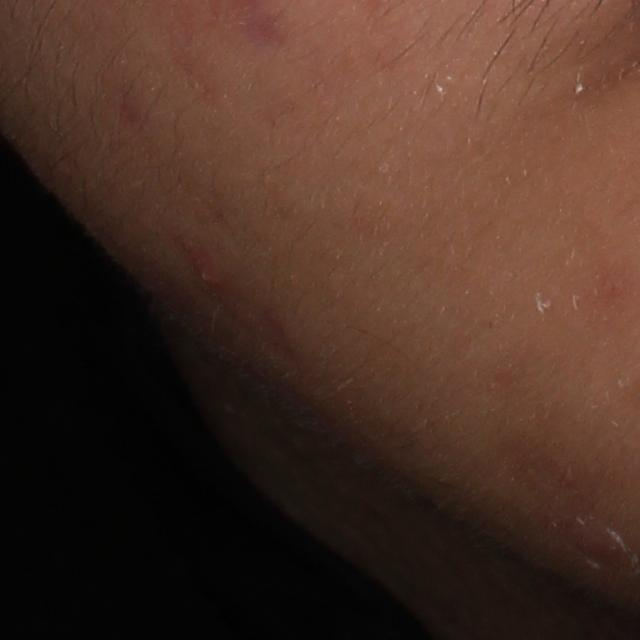papule: (185, 244, 235, 293)
